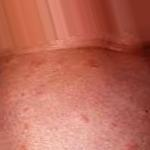Reupload: (0, 48, 149, 149)
